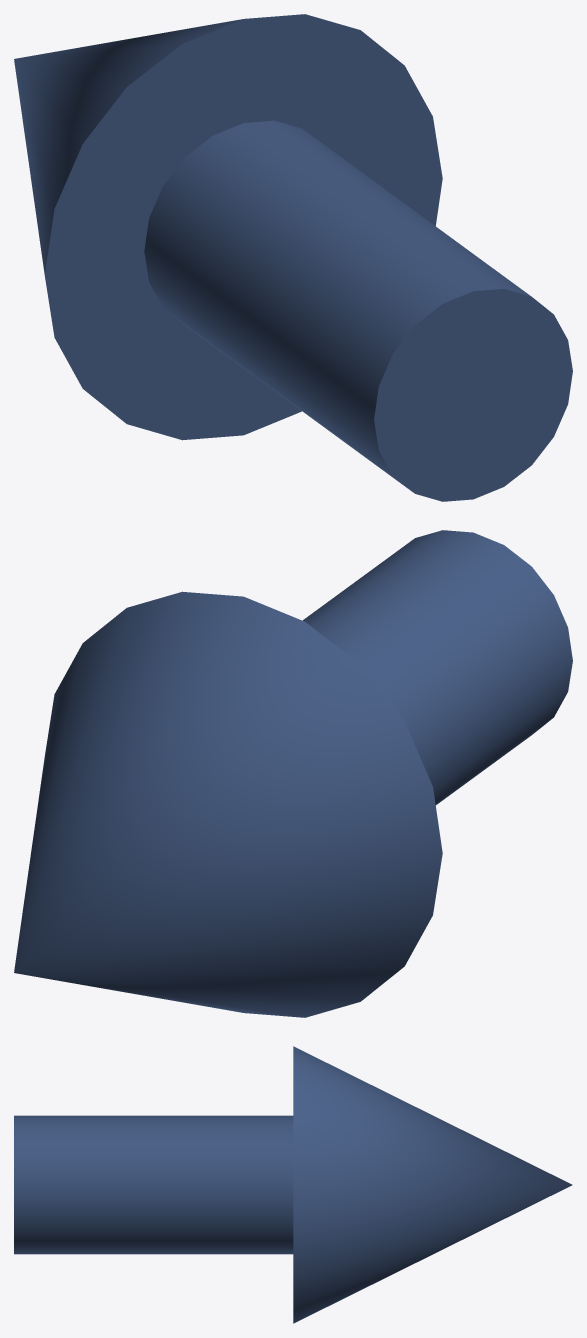
The model's file is shotIndicator.fbx.
The picture shows the model from 3 angles, top to bottom: view 1: azimuth 30°, elevation 25°; view 2: azimuth 150°, elevation 25°; view 3: azimuth 270°, elevation 25°; orthographic projection. The views are drawn at different scales.
Parts seen in each view (by area): view 1: pCylinder1, pCone1; view 2: pCone1, pCylinder1; view 3: pCylinder1, pCone1.
Boxes of the visible parts, box(x1,y1,x2,y2) form: pCylinder1: box(144, 120, 572, 501); pCone1: box(14, 14, 442, 440); pCone1: box(14, 591, 442, 1017); pCylinder1: box(303, 530, 572, 805); pCylinder1: box(14, 1115, 293, 1254); pCone1: box(293, 1046, 572, 1323).
Size of the model in its own units: 2 by 2 by 4.
